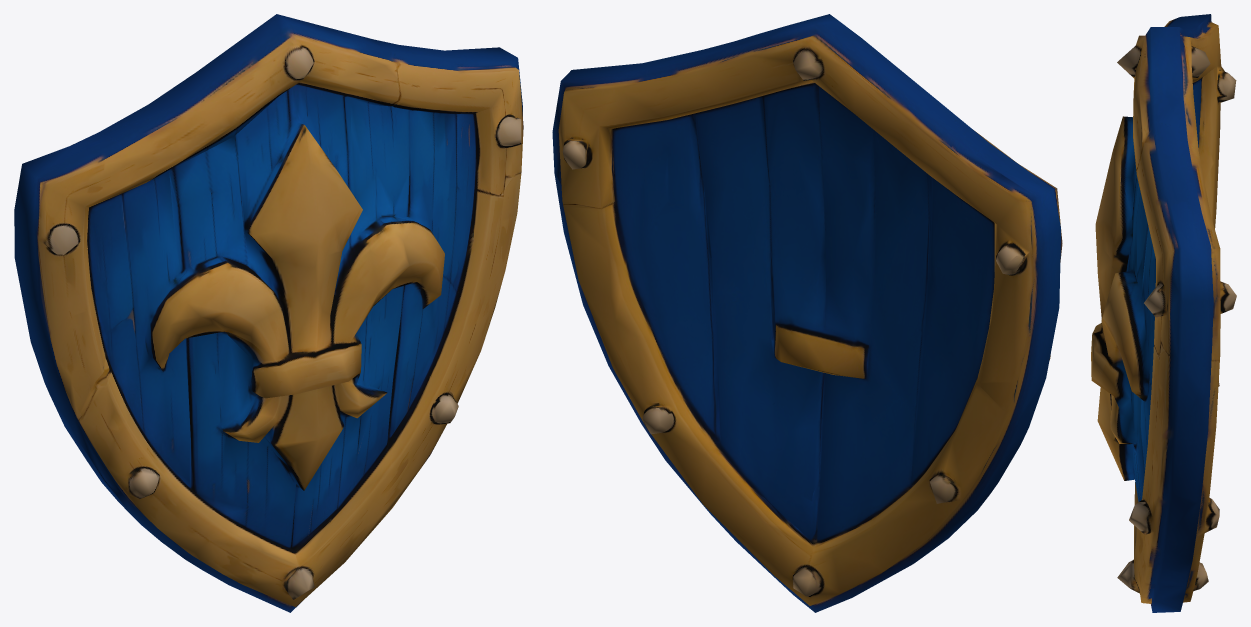
Rendered from shield_(defend_icon).fbx.
3 views of the same model, side by side, from view 1: azimuth 30°, elevation 25°; view 2: azimuth 150°, elevation 25°; view 3: azimuth 270°, elevation 25° (orthographic).
Visible parts, largest first — view 1: tripo_node_a445e3e2; view 2: tripo_node_a445e3e2; view 3: tripo_node_a445e3e2.
Part boxes in pixels (x1,y1,x2,y2): tripo_node_a445e3e2: [14, 14, 523, 612]; tripo_node_a445e3e2: [552, 14, 1062, 612]; tripo_node_a445e3e2: [1091, 14, 1236, 612].
Size of the model in its own units: 88.1 by 22.58 by 100.
1 material, 1 textured.
